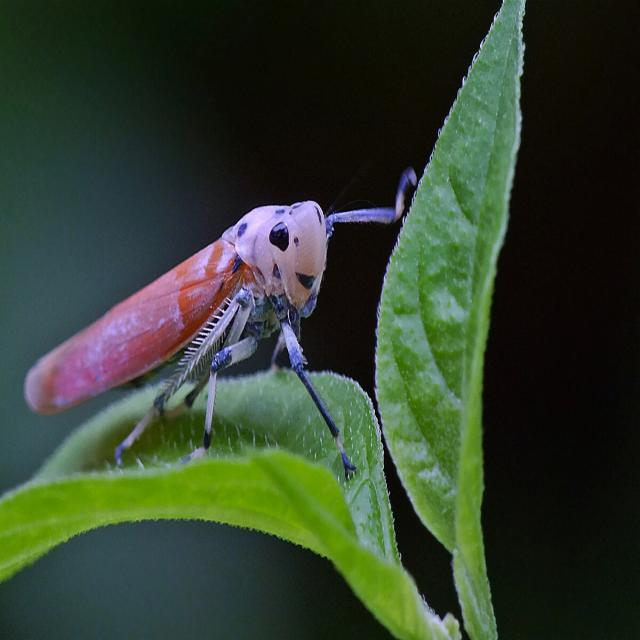Yechan: (22, 198, 396, 480)
